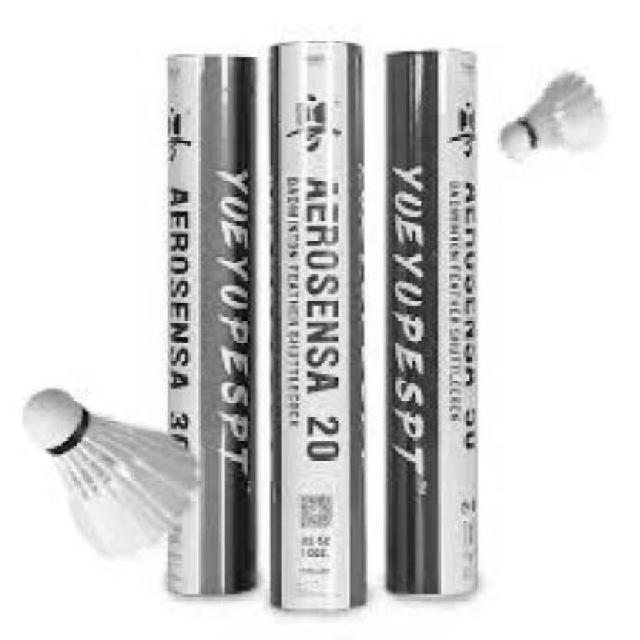Shuttlecock: (500, 65, 611, 169)
